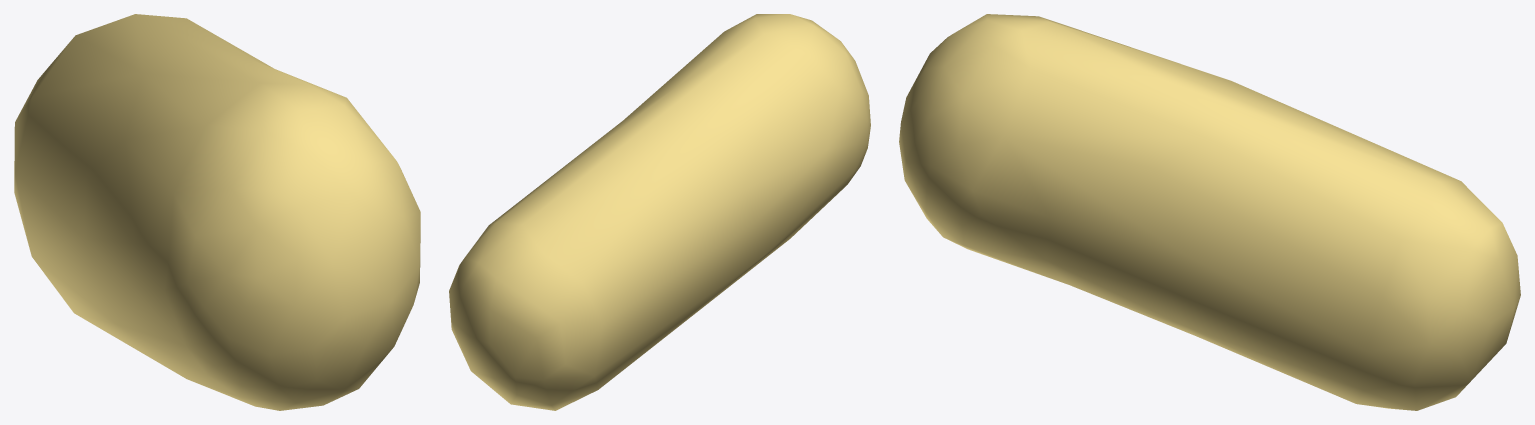
Rendered from fma65423_fj4038.glb.
The picture shows the model from 3 angles, left to right: view 1: azimuth 30°, elevation 25°; view 2: azimuth 150°, elevation 25°; view 3: azimuth 270°, elevation 25°; orthographic projection. The views are drawn at different scales.
Visible parts, largest first — view 1: FMA65423_FJ4038; view 2: FMA65423_FJ4038; view 3: FMA65423_FJ4038.
Part boxes in pixels (x1=…): FMA65423_FJ4038: x1=14, y1=14, x2=420, y2=410; FMA65423_FJ4038: x1=449, y1=14, x2=870, y2=410; FMA65423_FJ4038: x1=899, y1=14, x2=1520, y2=410.
Size of the model in its own units: 0.00412 by 0.00487 by 0.00802.
